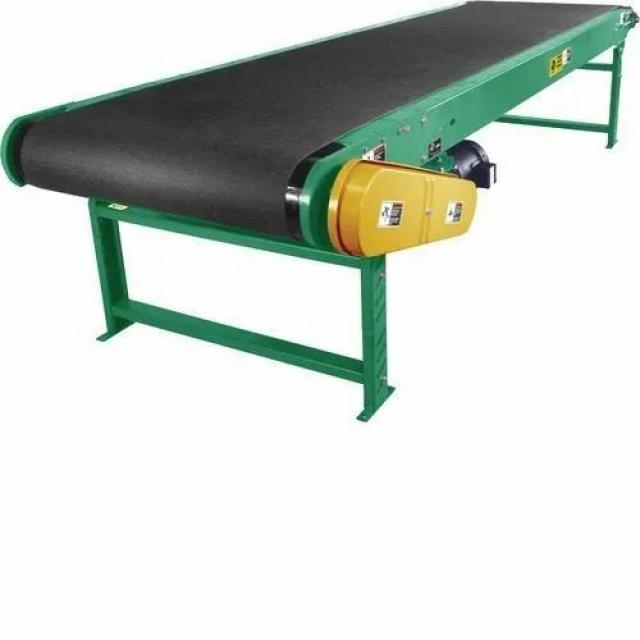conveyor: (4, 0, 640, 414)
